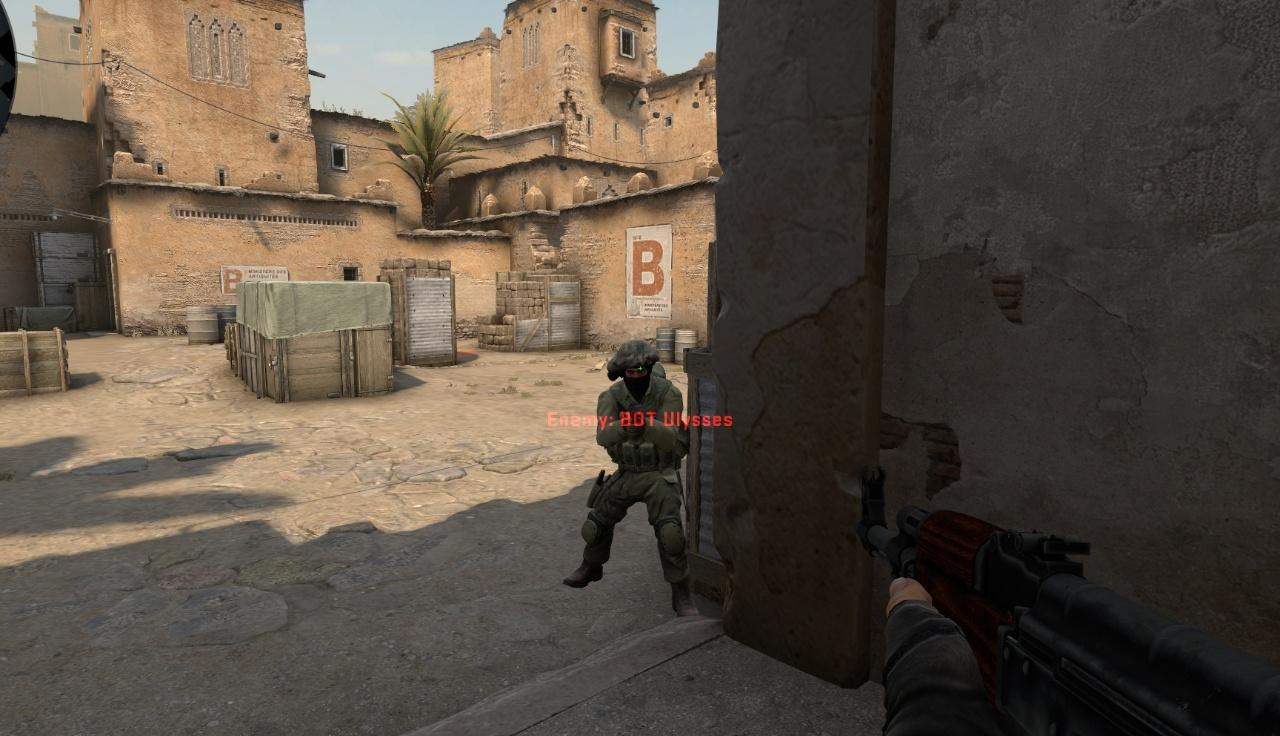ct: (586, 340, 696, 608)
cthead: (619, 342, 655, 386)
rifle: (862, 474, 1280, 736)
